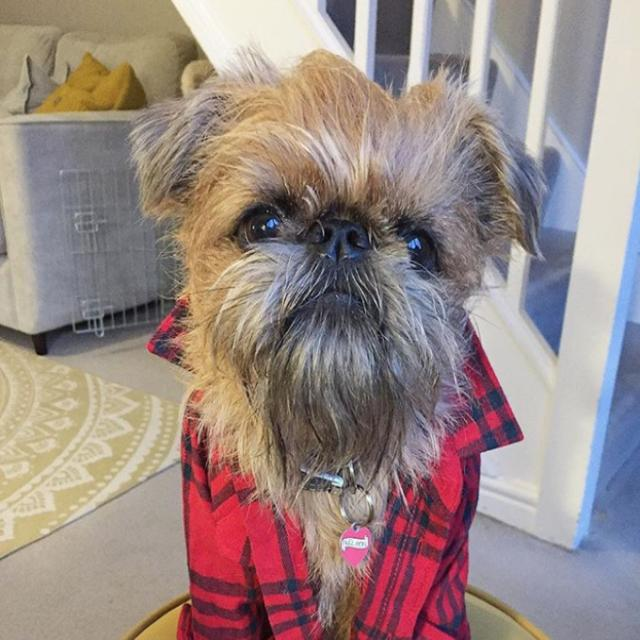dog: (116, 53, 580, 498)
